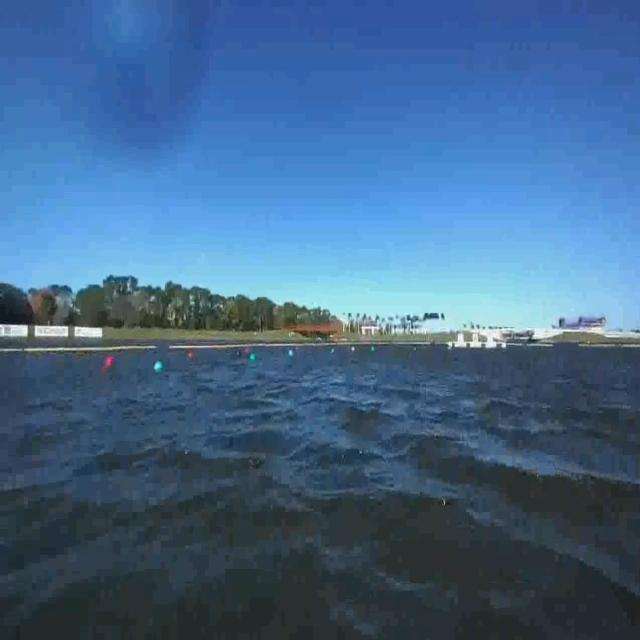green-buoy: (154, 360, 163, 371)
red-buoy: (104, 354, 115, 370)
